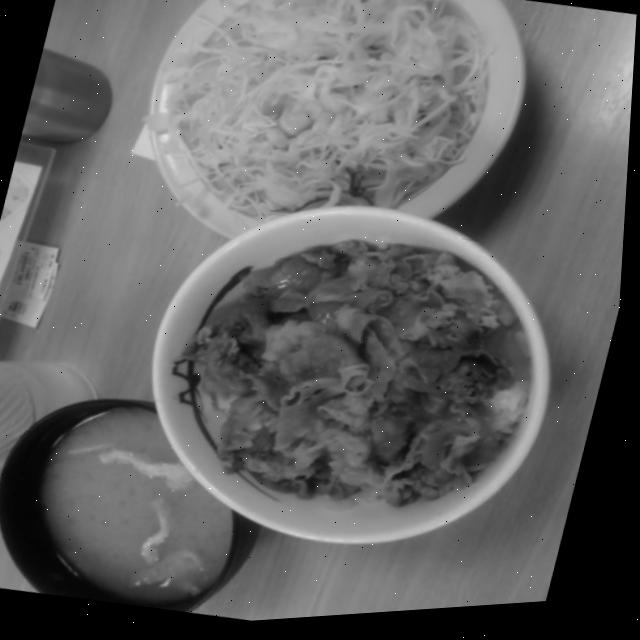汤锅炖物: (0, 358, 301, 638)
蔬菜料理: (104, 0, 558, 304)
